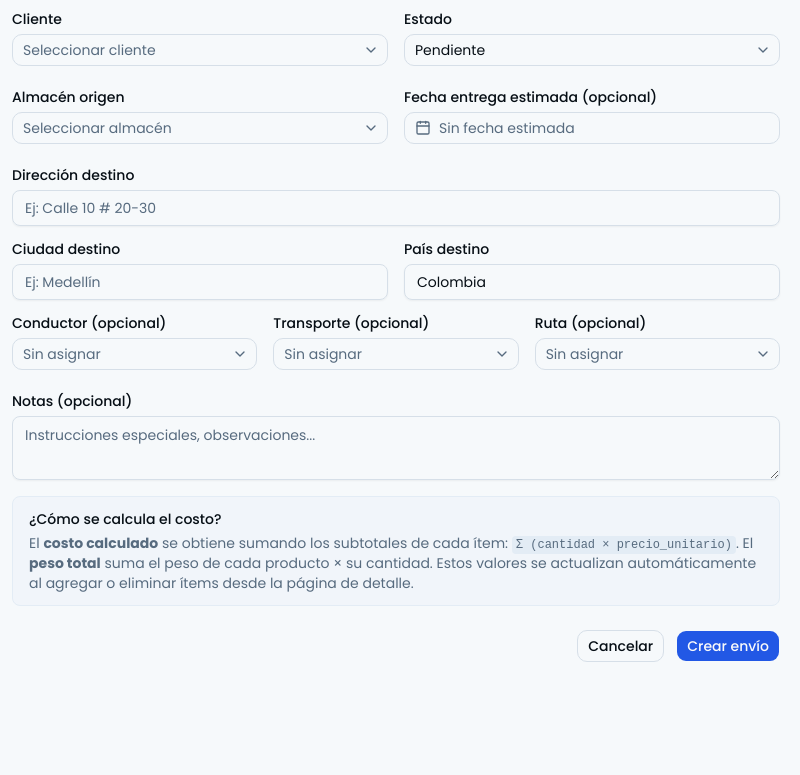
Test: ShipmentForm — validación › muestra error en dirección destino cuando está vacía
This screenshot has width=800, height=775.
Click the button "Crear envío".
click(728, 646)  # box [676,630,780,662]
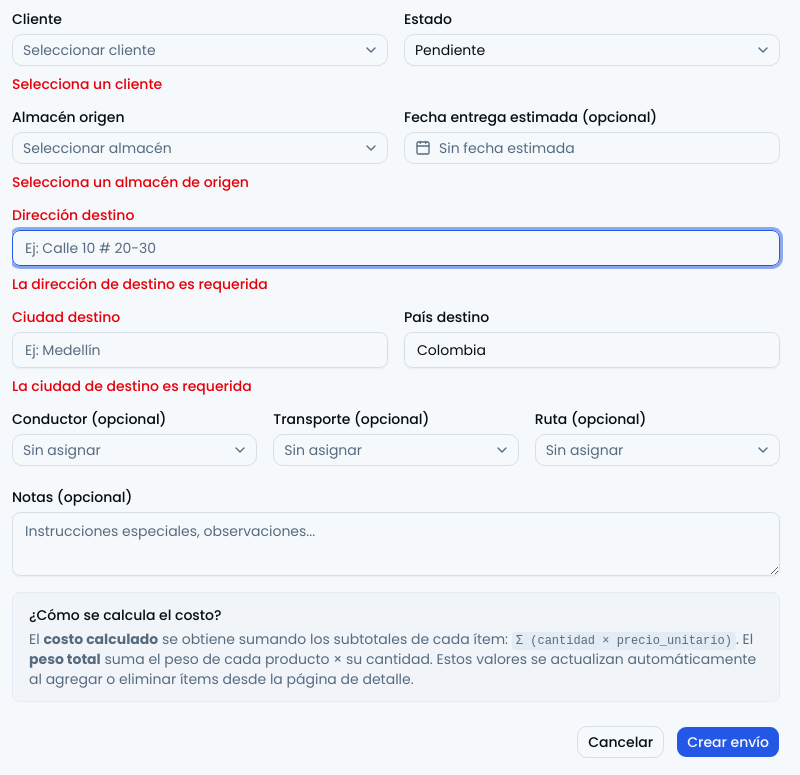
expect the text "La dirección de destino es requerida" is shown: met, box [12,274,268,294]
